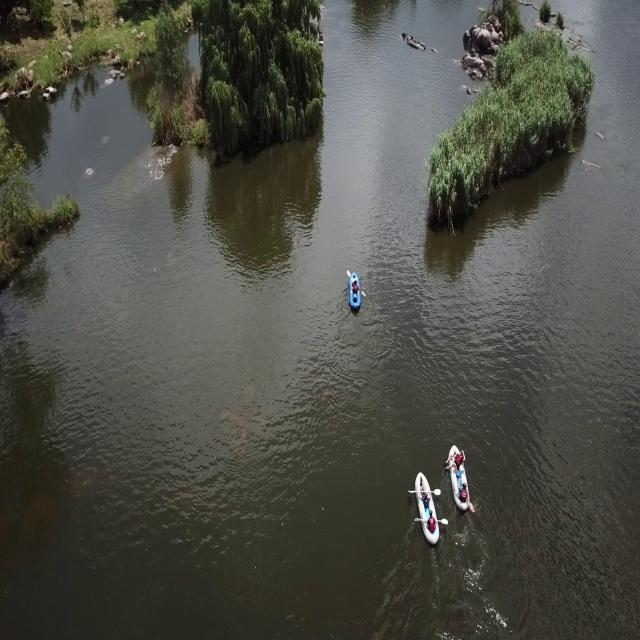kayak: (410, 464, 447, 554), (442, 441, 476, 520), (343, 266, 367, 319)
